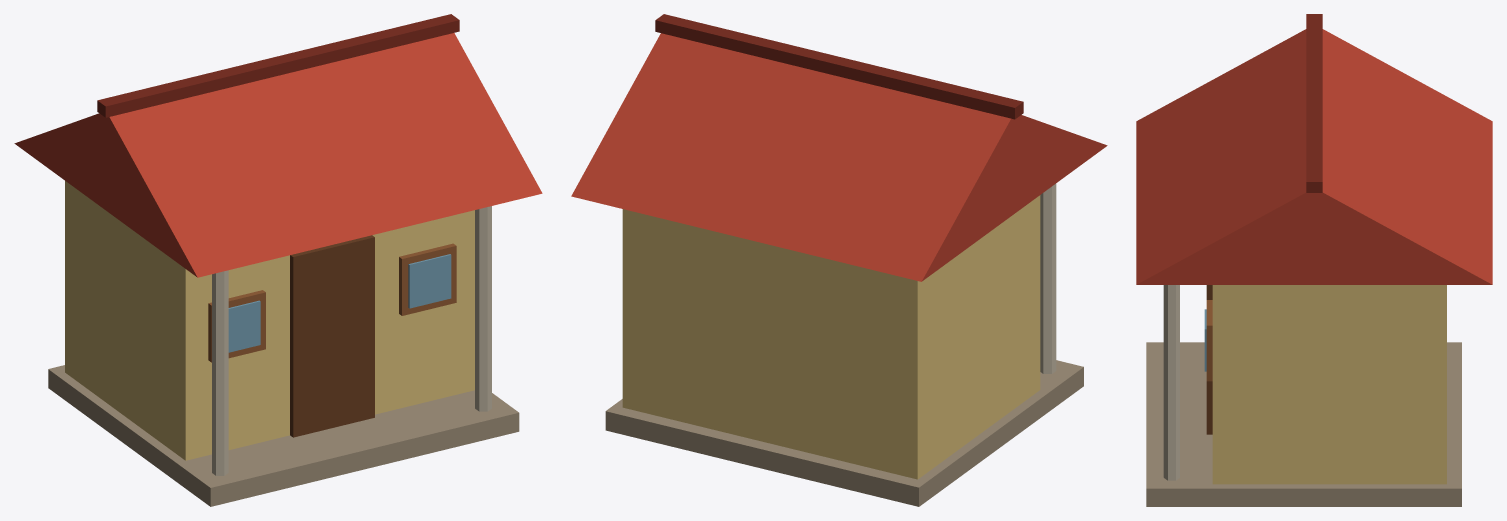
File: nha-cap4.glb
3 renders of one model, left to right at view 1: azimuth 30°, elevation 25°; view 2: azimuth 150°, elevation 25°; view 3: azimuth 270°, elevation 25°, orthographic. The views are drawn at different scales.
Parts seen in each view (by area): view 1: nha-cap4; view 2: nha-cap4; view 3: nha-cap4.
Part boxes in pixels (x1,y1,x2,y2): nha-cap4: [14, 14, 542, 506]; nha-cap4: [571, 14, 1107, 506]; nha-cap4: [1136, 14, 1492, 506].
Size of the model in its own units: 3.9 by 3.64 by 3.5.
